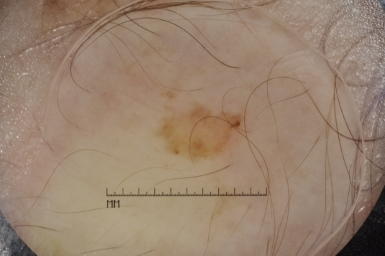seborrheic keratosis: (143, 91, 255, 180)
